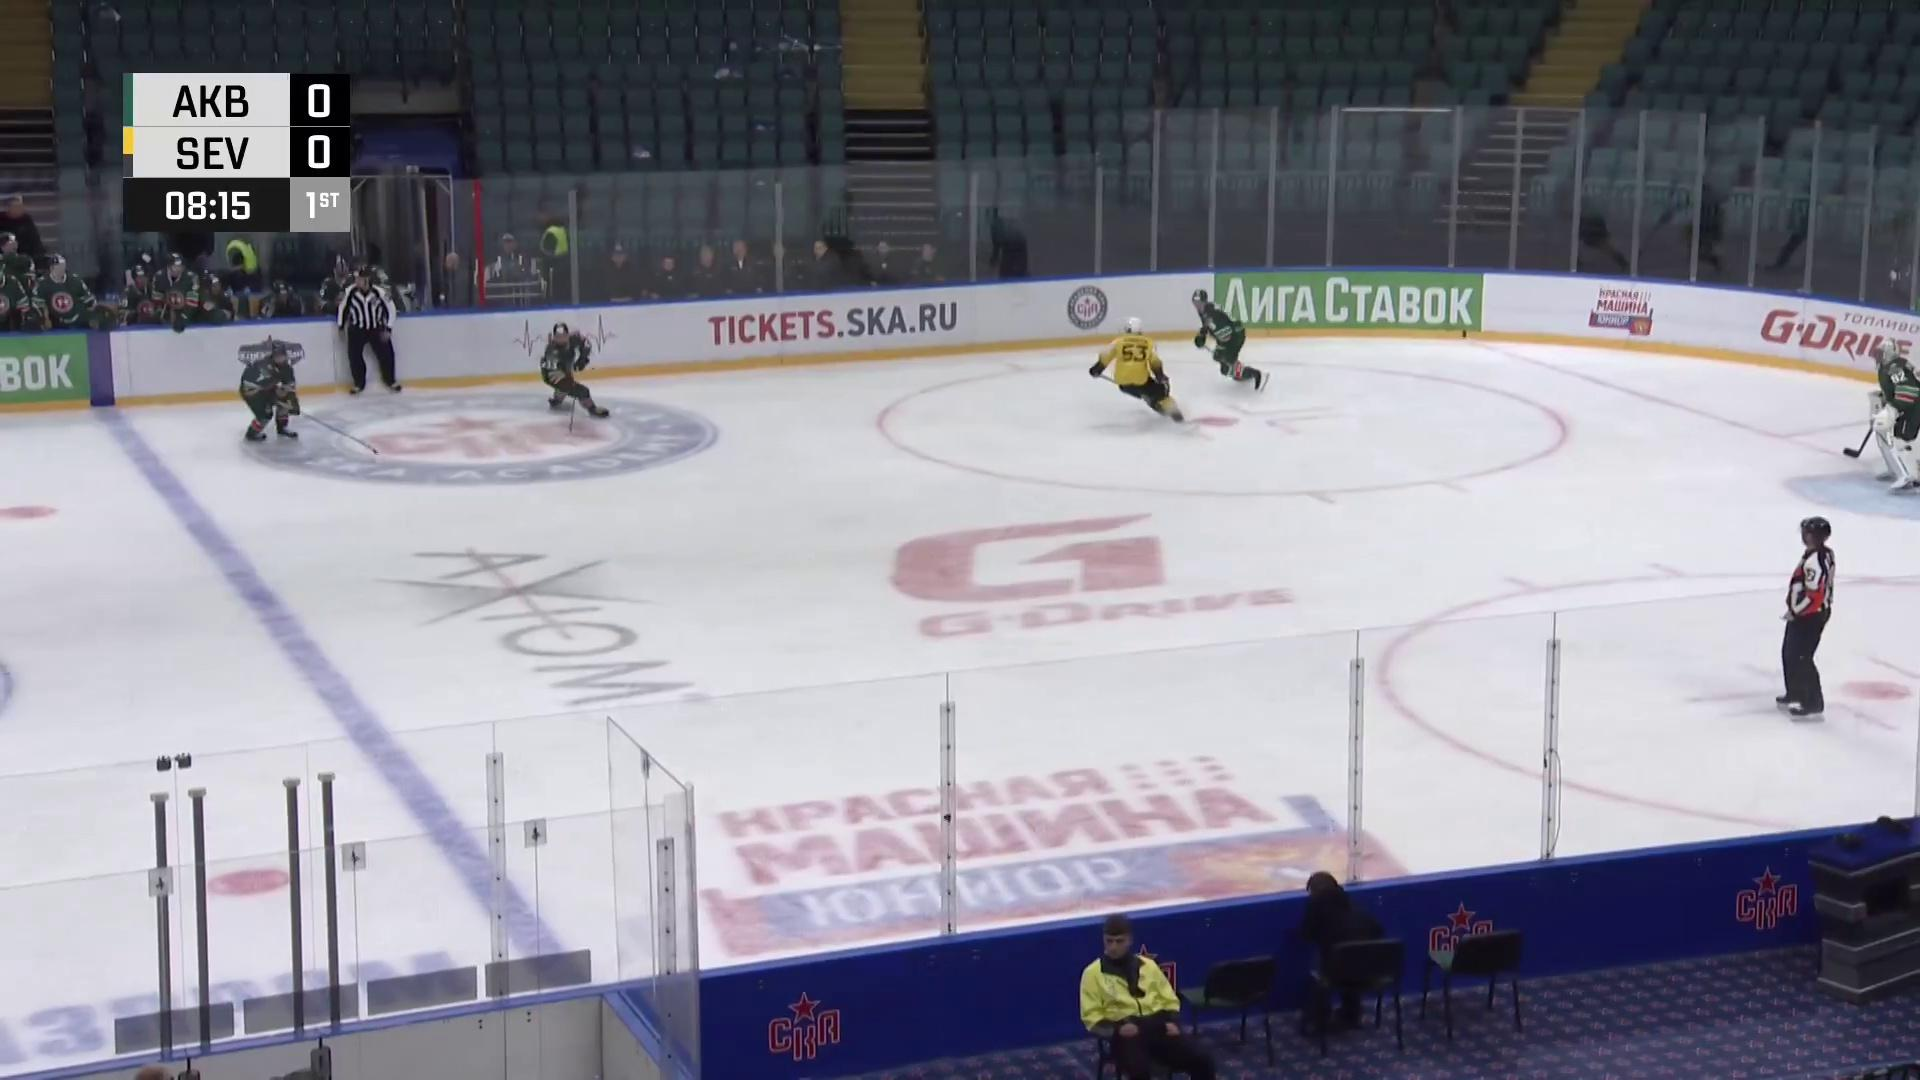ball: (546, 397, 553, 402)
